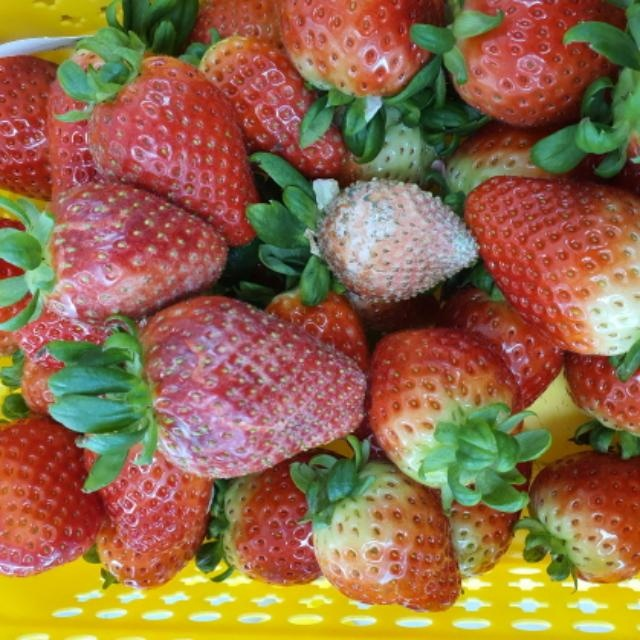Powdery Mildew Fruit: (132, 293, 368, 479), (33, 182, 229, 324), (313, 178, 482, 301)
